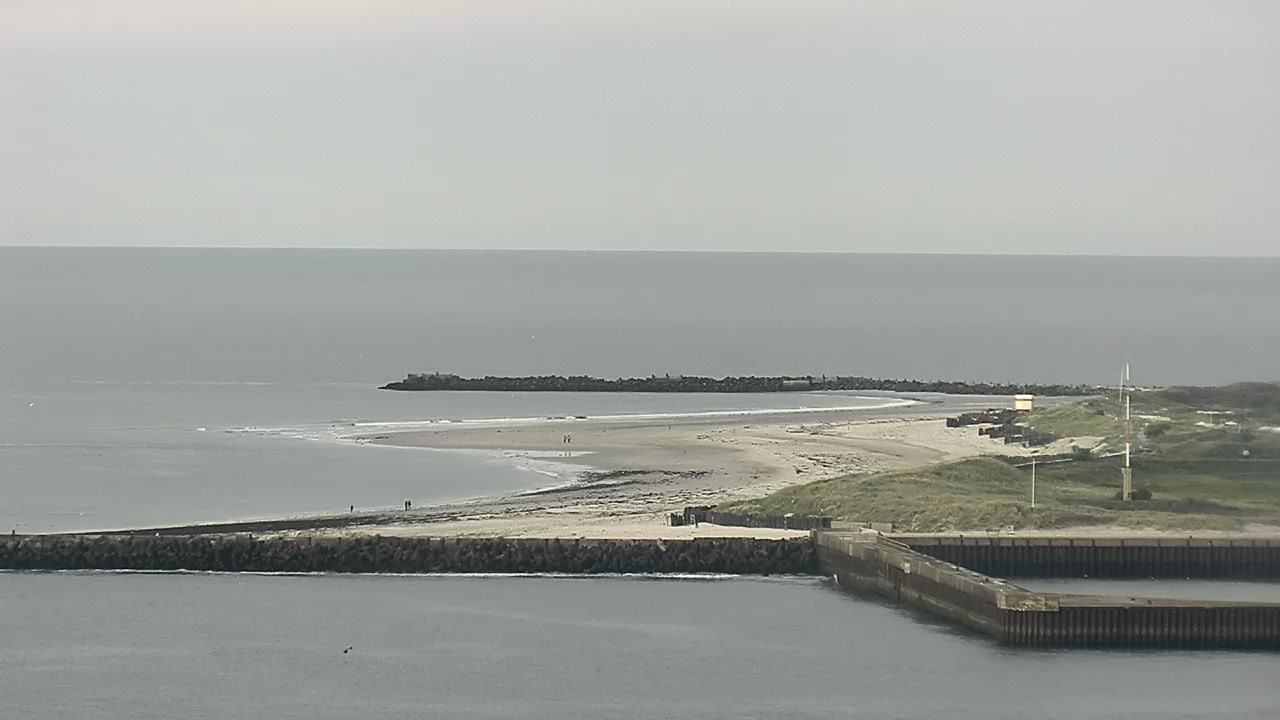human: (693, 516, 699, 528), (404, 499, 409, 511), (407, 499, 412, 510), (349, 504, 354, 513), (566, 434, 571, 443), (563, 434, 566, 443)
